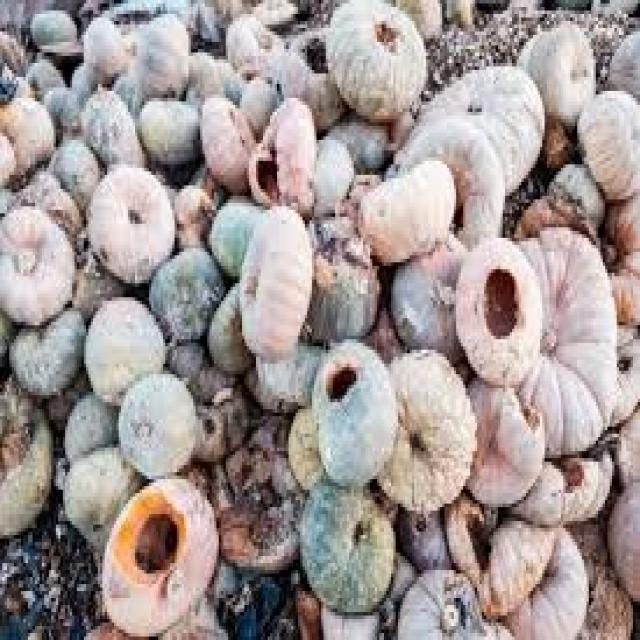biodegradable: (0, 0, 638, 637), (515, 224, 615, 458), (95, 476, 219, 637), (414, 63, 540, 192), (207, 409, 305, 570), (377, 346, 472, 507), (386, 112, 503, 241), (440, 486, 556, 612), (307, 336, 398, 486), (452, 234, 543, 378), (298, 476, 393, 609), (235, 199, 312, 357), (323, 0, 421, 115), (494, 518, 585, 637), (0, 518, 91, 637), (356, 150, 452, 259), (86, 161, 170, 280), (466, 378, 543, 507), (389, 231, 466, 353), (245, 91, 315, 217), (81, 290, 163, 395), (308, 217, 380, 336), (0, 203, 72, 322), (58, 441, 137, 546), (117, 371, 196, 476), (517, 18, 594, 123), (147, 242, 226, 340), (5, 297, 84, 395), (275, 25, 347, 130), (0, 378, 49, 532), (77, 73, 147, 168), (393, 563, 482, 637), (5, 168, 82, 252), (575, 87, 638, 189), (128, 7, 189, 98), (196, 87, 254, 182), (96, 0, 221, 42), (252, 339, 324, 409), (202, 276, 249, 371), (221, 7, 282, 80), (596, 322, 638, 427), (0, 91, 54, 171), (63, 385, 119, 462), (140, 94, 198, 168), (205, 189, 261, 262), (559, 511, 612, 588), (605, 479, 638, 602), (165, 343, 233, 402), (44, 136, 98, 210), (547, 158, 603, 228), (284, 406, 326, 497), (307, 137, 356, 214), (512, 193, 586, 242), (559, 451, 612, 518), (326, 105, 386, 164), (596, 399, 638, 483), (396, 500, 452, 563), (70, 249, 126, 312), (235, 73, 289, 133), (596, 186, 638, 263), (79, 14, 128, 80), (582, 567, 628, 637), (158, 591, 226, 637), (317, 595, 389, 637), (368, 277, 407, 354), (172, 179, 214, 249), (510, 462, 559, 521), (42, 364, 91, 420), (603, 252, 638, 325), (377, 549, 417, 609), (0, 0, 77, 31), (603, 24, 638, 91), (26, 7, 77, 52), (212, 567, 249, 623), (388, 0, 442, 38), (187, 46, 224, 95), (533, 112, 572, 157), (44, 84, 79, 133), (23, 49, 58, 98), (293, 577, 319, 637), (221, 388, 247, 448), (340, 165, 377, 207), (198, 395, 223, 455), (0, 25, 28, 74), (70, 60, 102, 102), (230, 595, 261, 637), (184, 165, 221, 200), (214, 49, 242, 94), (379, 105, 412, 143), (254, 570, 279, 616), (0, 126, 16, 189), (475, 609, 510, 637), (0, 60, 28, 95), (84, 616, 123, 637), (591, 0, 637, 17), (266, 616, 301, 637), (442, 0, 472, 24), (47, 448, 68, 479), (124, 24, 138, 56), (516, 0, 588, 3)
